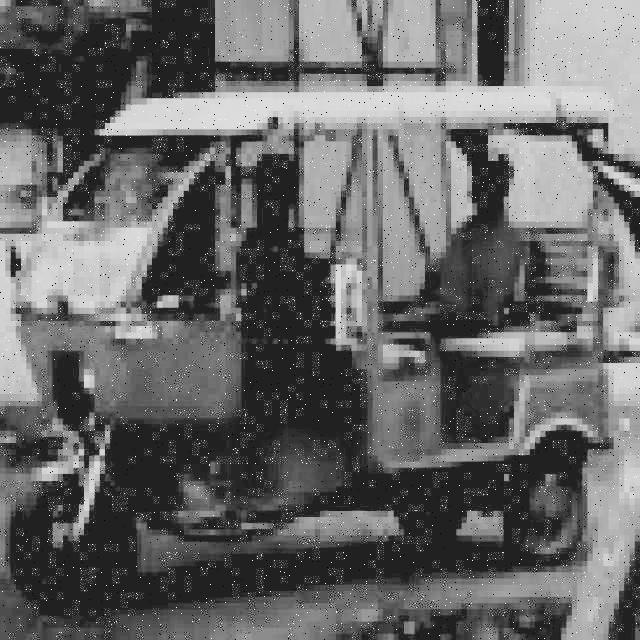Toto: (9, 69, 634, 614)
